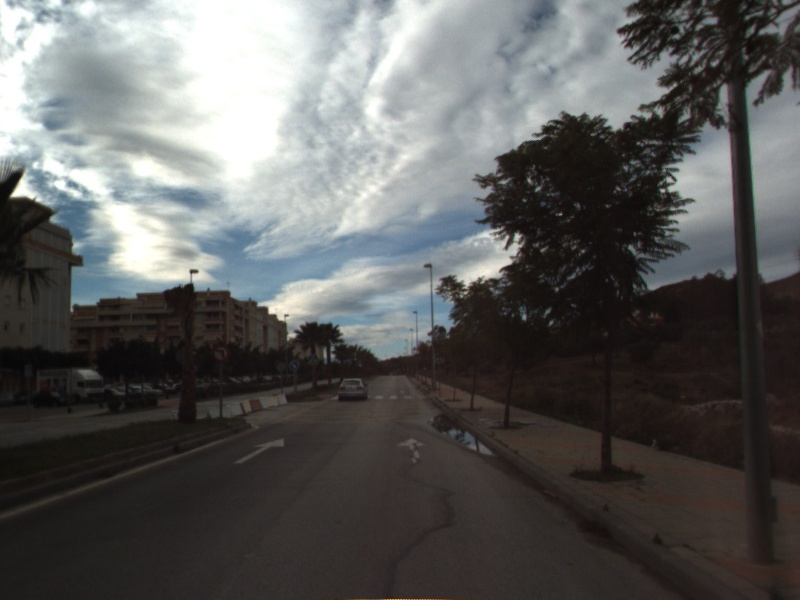STRAIGHT: (232, 436, 286, 466), (395, 435, 428, 466)
